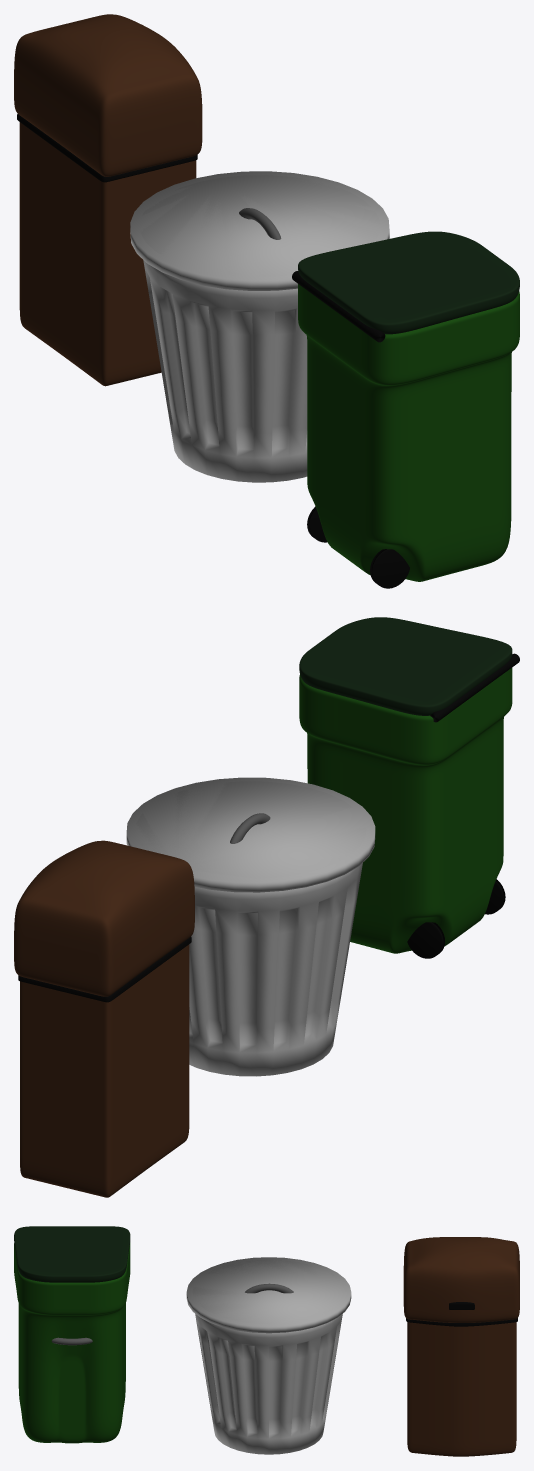
File: TrashCans.fbx
3 renders of one model, top to bottom at view 1: azimuth 30°, elevation 25°; view 2: azimuth 150°, elevation 25°; view 3: azimuth 270°, elevation 25°, orthographic. The views are drawn at different scales.
Visible parts, largest first — view 1: Cube, Cylinder.004, Cube.002, Cube.003, Cylinder.005, Cube.001, Cylinder.001, Cube.005, Cylinder.003; view 2: Cube, Cube.002, Cylinder.004, Cube.003, Cylinder.005, Cube.001, Cube.005, Cylinder, Cylinder.003; view 3: Cube, Cylinder.004, Cube.002, Cylinder.005, Cube.003, Cube.001, Cube.005, Torus.001, Torus.
Boxes of the visible parts, <box> form: Cube: <box>298,284,519,581</box>; Cylinder.004: <box>143,260,307,482</box>; Cube.002: <box>19,122,196,386</box>; Cube.003: <box>14,14,202,176</box>; Cylinder.005: <box>130,171,389,290</box>; Cube.001: <box>298,231,519,334</box>; Cylinder.001: <box>370,549,409,588</box>; Cube.005: <box>17,114,197,182</box>; Cylinder.003: <box>292,271,385,342</box>; Cube: <box>299,668,512,953</box>; Cube.002: <box>20,944,189,1197</box>; Cylinder.004: <box>189,863,362,1076</box>; Cube.003: <box>14,840,194,996</box>; Cylinder.005: <box>126,777,375,892</box>; Cube.001: <box>299,617,512,715</box>; Cube.005: <box>18,937,191,1002</box>; Cylinder: <box>407,922,444,958</box>; Cylinder.003: <box>430,653,519,722</box>; Cube: <box>14,1242,130,1443</box>; Cylinder.004: <box>195,1313,342,1454</box>; Cube.002: <box>407,1322,516,1456</box>; Cylinder.005: <box>186,1257,351,1333</box>; Cube.003: <box>403,1237,519,1322</box>; Cube.001: <box>14,1226,130,1282</box>; Cube.005: <box>406,1318,517,1326</box>; Torus.001: <box>245,1283,293,1293</box>; Torus: <box>51,1337,92,1345</box>.
Size of the model in its own units: 301 by 399 by 926.
